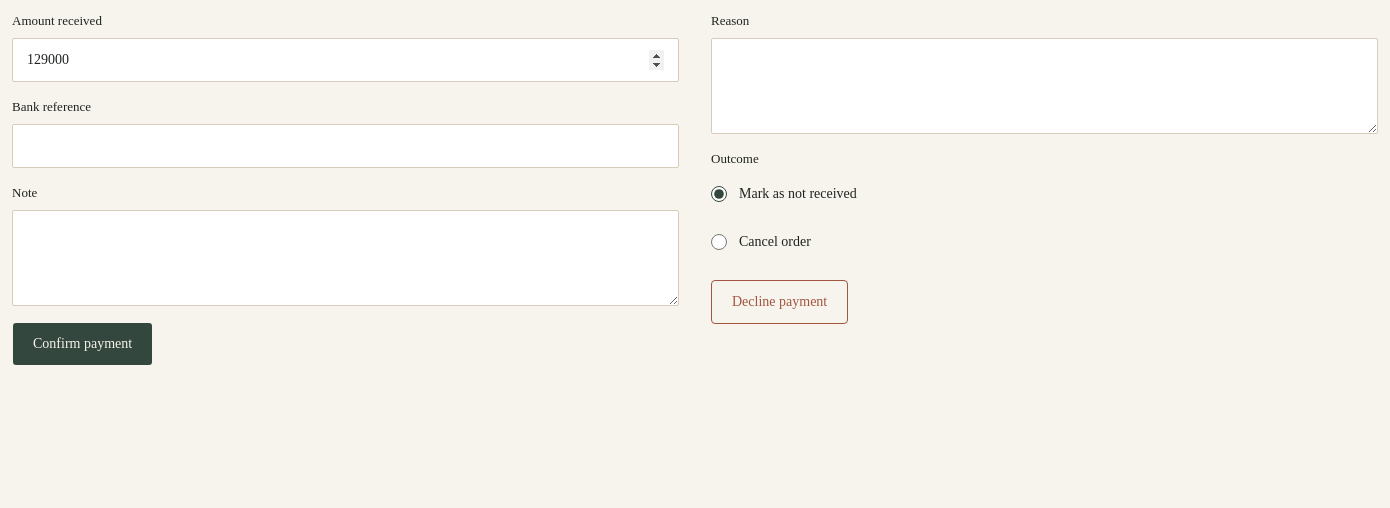
Test: keeps confirm disabled on a mismatch until the override is ticked
In the field labelled "Bank reference": (346, 146) [12,124,679,168], type "VCB-1"
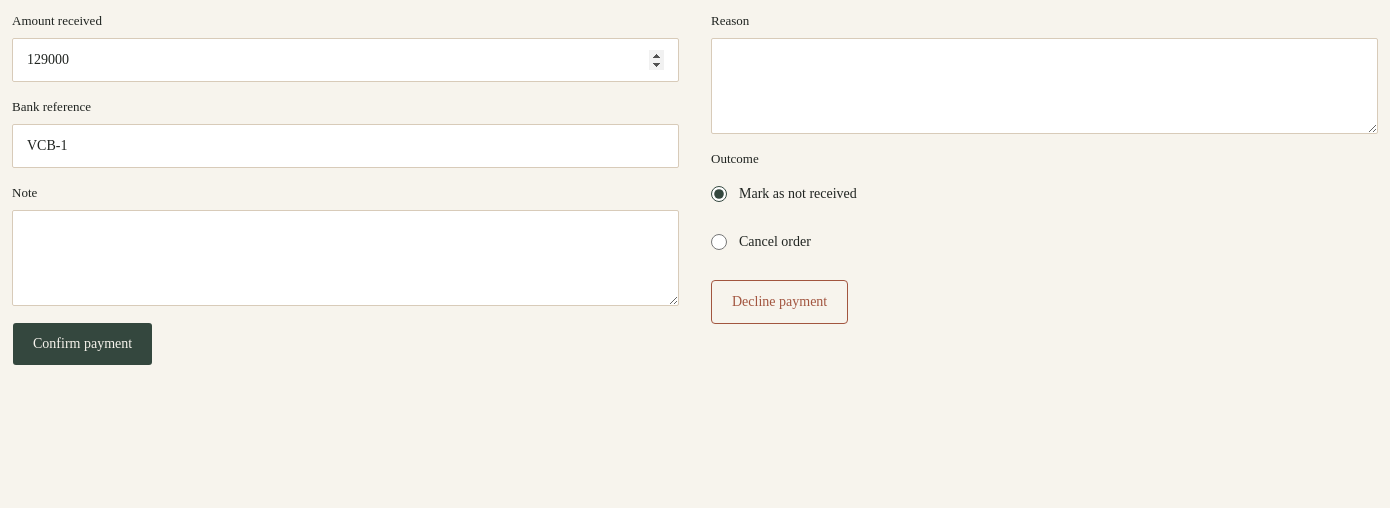
Replace the text in the number field labelled "Amount received" with "100000": (346, 60) [12,38,679,82]
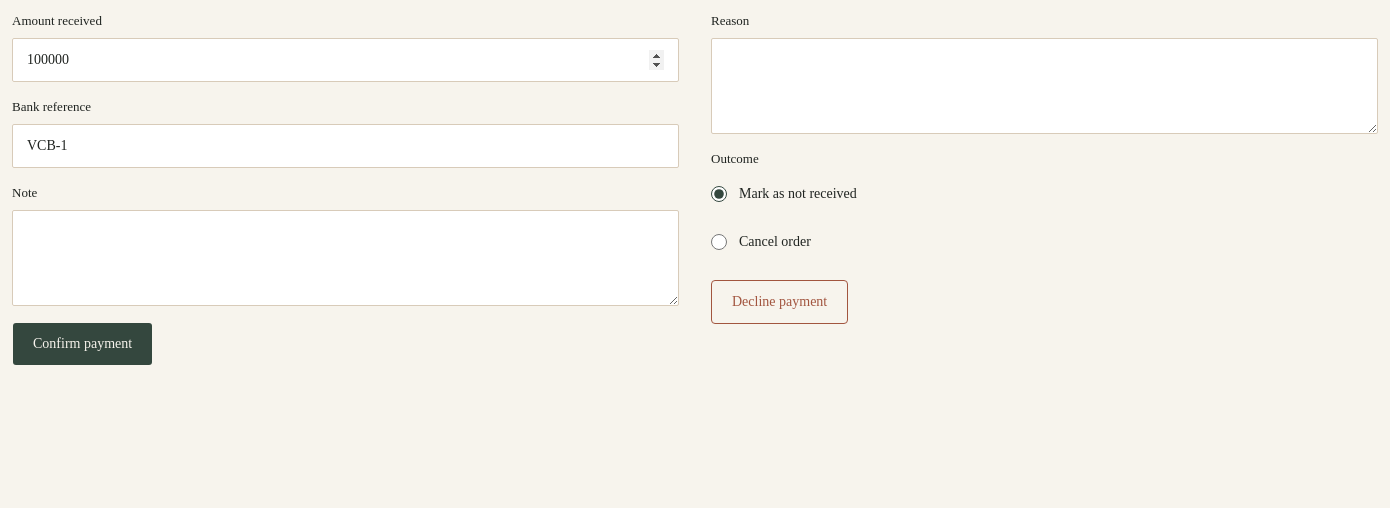
Click the button "Confirm payment": (83, 344) [12,322,153,366]
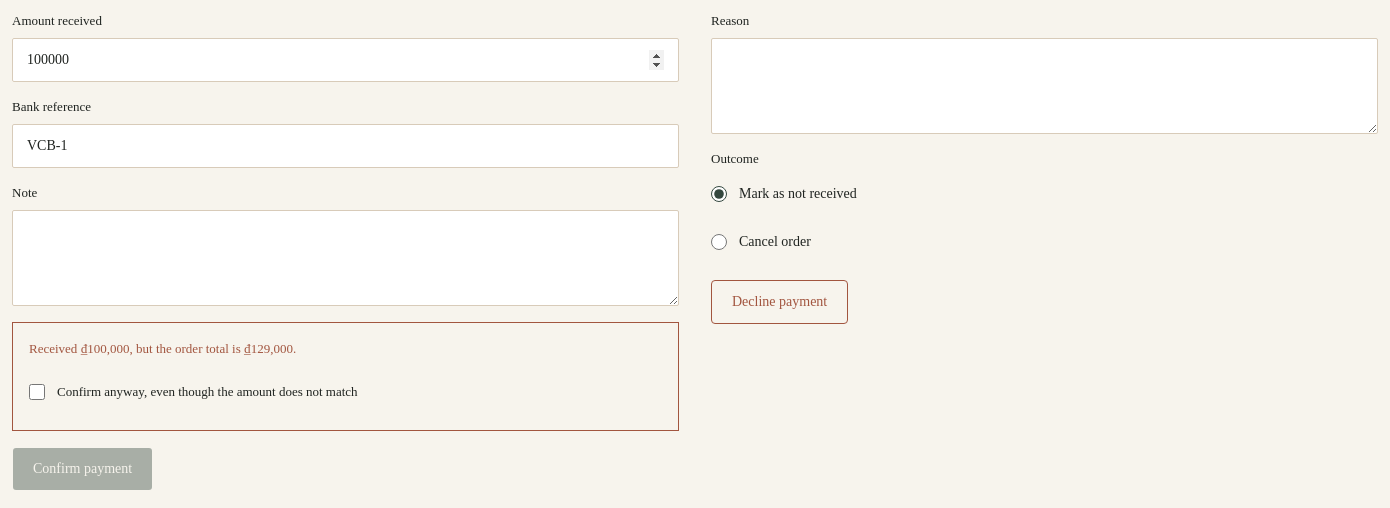
Now the message is shown, box [12,322,679,431]
Now the button "Confirm payment" is disabled, box [12,447,153,491]
Click the checkbox: (37, 392) [29,384,45,400]
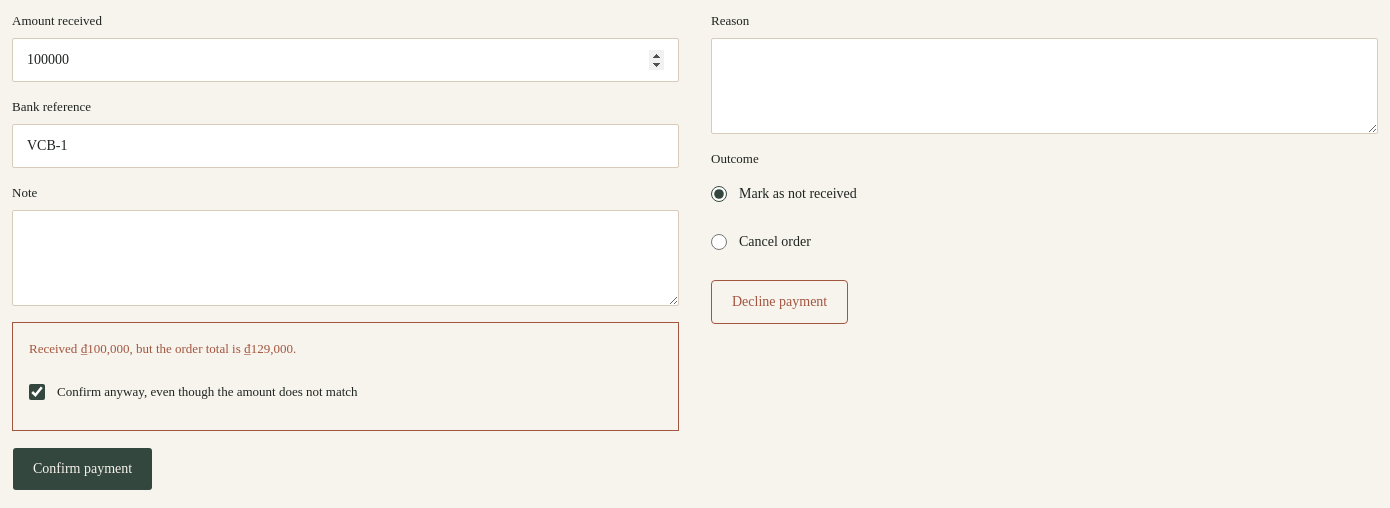
Now the button "Confirm payment" is enabled, box [12,447,153,491]
